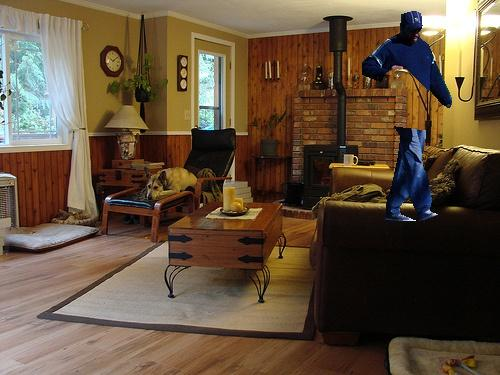tampered: (363, 12, 452, 221)
